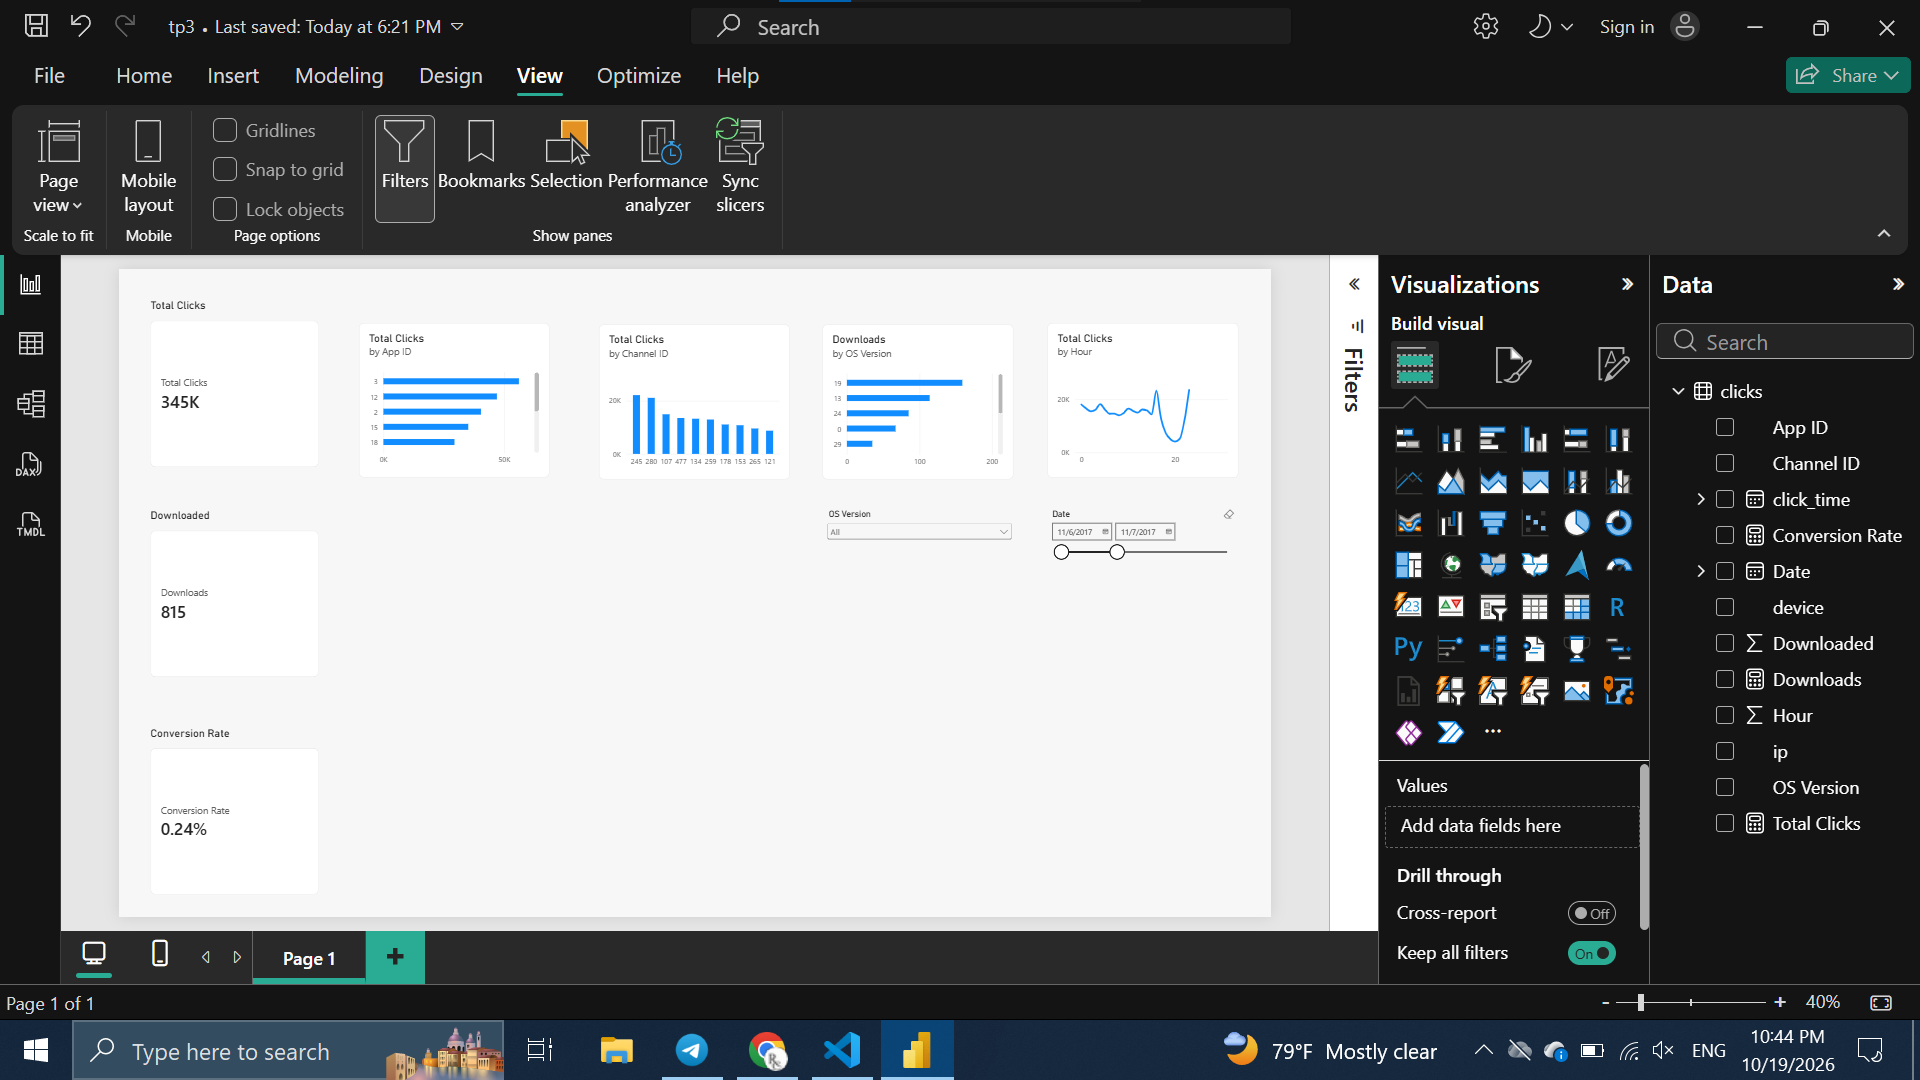

This screenshot's page, from the dashboard's own definition file:
{"tool":"powerbi","page":{"name":"Page 1","canvas":[1920,1080],"ordinal":0},"visuals":[{"type":"cardVisual","title":"Total Clicks","fields":{"Data":["clicks.Total Clicks"]},"box":[52.5,50,280,280],"z":0},{"type":"cardVisual","title":"Downloads","fields":{"Data":["clicks.Downloads"]},"box":[52.5,400,280,280],"z":1000},{"type":"cardVisual","title":"Conversion Rate","fields":{"Data":["clicks.Conversion Rate"]},"box":[52.5,762.5,280,280],"z":2000},{"type":"clusteredBarChart","fields":{"Category":["clicks.App ID"],"Y":["clicks.Total Clicks"]},"box":[400,90,317.5,257.5],"z":3000},{"type":"clusteredColumnChart","fields":{"Category":["clicks.Channel ID"],"Y":["clicks.Total Clicks"]},"box":[800,92.5,318,258],"z":4000},{"type":"clusteredBarChart","fields":{"Category":["clicks.OS Version"],"Y":["clicks.Downloads"]},"box":[1172.5,92.5,318,258],"z":5000},{"type":"lineChart","fields":{"Category":["clicks.Hour"],"Y":["clicks.Total Clicks"]},"box":[1547.5,90,318,258],"z":5001},{"type":"slicer","fields":{"Values":["clicks.Date"]},"box":[1547.5,400,318,280],"z":5002},{"type":"slicer","fields":{"Values":["clicks.OS Version"]},"box":[1150,400,318,280],"z":5004}]}

Visuals, with their boxes on the page's 1920x1080 design canvas (x1, y1, x2, y2). These are canvas units, not pixel positions in the 1920x1080 screenshot, which may show the page scaled, cropped or inside an application window:
"Total Clicks" cardVisual: [x1=52, y1=50, x2=332, y2=330]
"Downloads" cardVisual: [x1=52, y1=400, x2=332, y2=680]
"Conversion Rate" cardVisual: [x1=52, y1=762, x2=332, y2=1042]
clusteredBarChart - clicks.App ID x clicks.Total Clicks: [x1=400, y1=90, x2=718, y2=348]
clusteredColumnChart - clicks.Channel ID x clicks.Total Clicks: [x1=800, y1=92, x2=1118, y2=350]
clusteredBarChart - clicks.OS Version x clicks.Downloads: [x1=1172, y1=92, x2=1490, y2=350]
lineChart - clicks.Hour x clicks.Total Clicks: [x1=1548, y1=90, x2=1866, y2=348]
slicer - clicks.Date: [x1=1548, y1=400, x2=1866, y2=680]
slicer - clicks.OS Version: [x1=1150, y1=400, x2=1468, y2=680]
